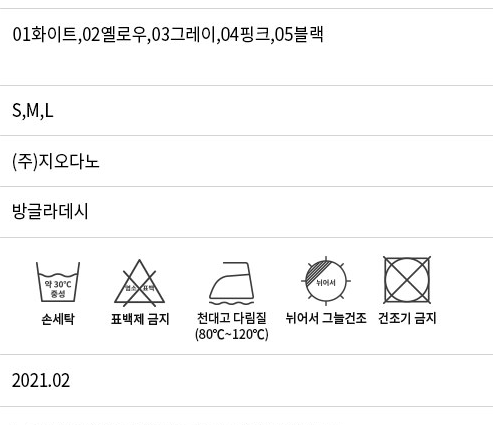KR_flat_dry_in_shade: (298, 254, 352, 307)
KR_hand_wash_30_neutral: (33, 251, 85, 308)
KR_no_chlorine_bleach: (110, 255, 169, 311)
KR_no_tumble_dry: (378, 248, 436, 308)
